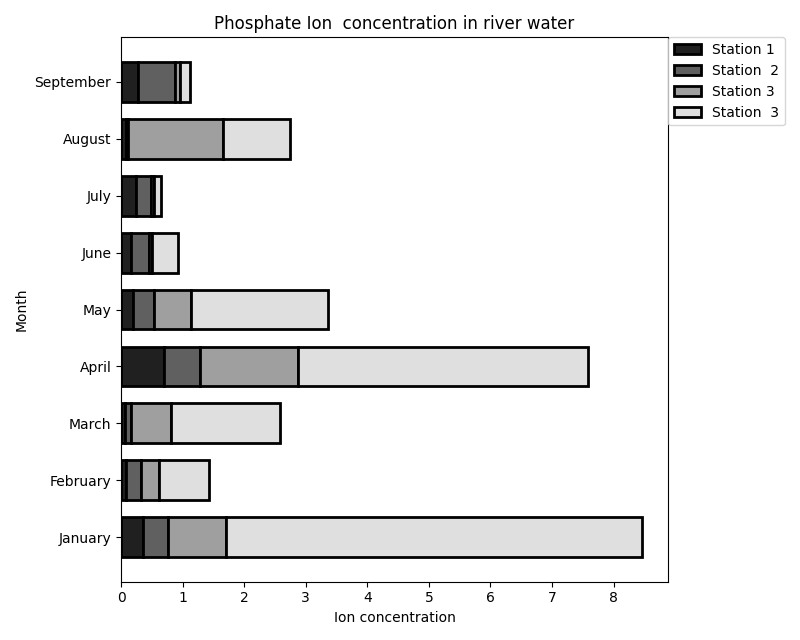canvas: (121, 49, 653, 569)
legend: (672, 38, 781, 122)
title: (209, 7, 583, 33)
x-axis: (103, 577, 678, 590)
x-labels: (108, 588, 631, 606)
x-title: (327, 609, 459, 630)
y-axis: (114, 33, 126, 587)
y-labels: (32, 66, 113, 556)
y-title: (11, 285, 31, 342)
